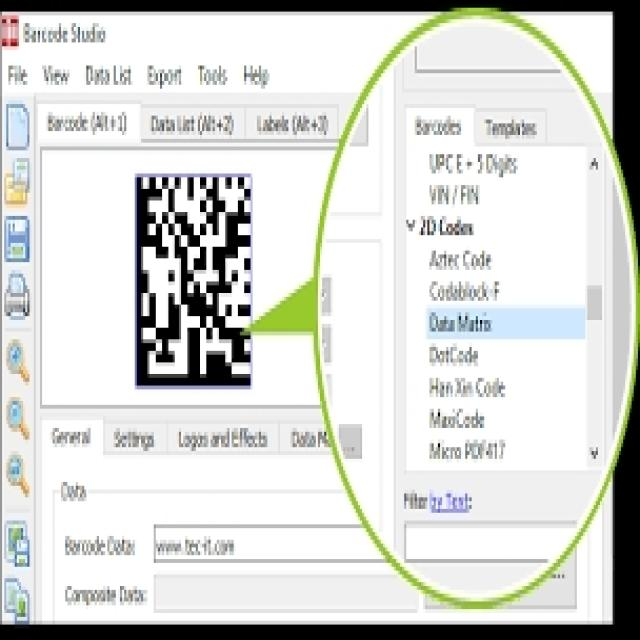datamatrix: (124, 162, 259, 401)
